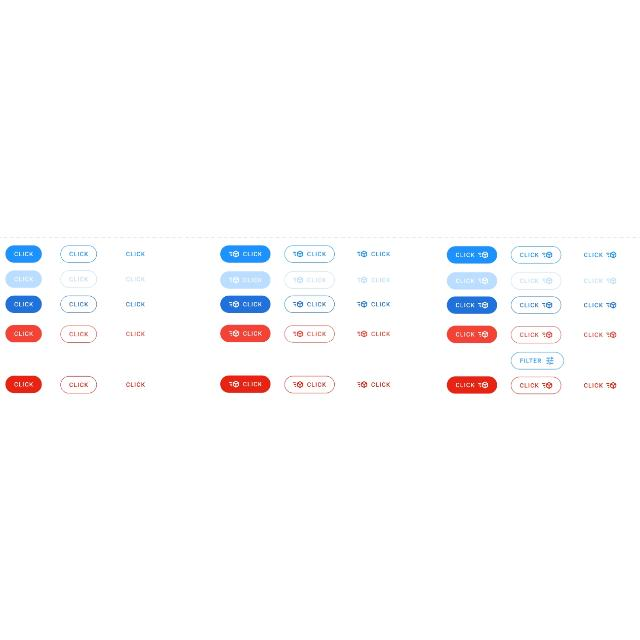QLabel: (12, 248, 36, 258), (304, 328, 328, 338), (68, 298, 90, 308), (68, 328, 90, 338), (126, 248, 148, 258), (125, 272, 147, 282), (369, 380, 393, 388), (519, 356, 543, 364), (242, 379, 262, 388), (12, 328, 34, 336), (67, 249, 89, 257), (124, 379, 146, 387), (306, 249, 328, 257), (305, 274, 327, 282), (454, 300, 476, 308), (454, 380, 476, 388), (518, 276, 540, 284), (13, 274, 34, 282), (371, 328, 392, 336), (126, 299, 146, 307), (242, 249, 262, 257), (242, 328, 262, 336), (306, 299, 326, 307), (370, 275, 390, 283), (455, 250, 475, 258), (455, 276, 475, 284), (520, 250, 540, 258), (519, 300, 539, 308), (583, 330, 603, 338), (583, 300, 603, 308), (584, 276, 604, 284), (583, 250, 603, 258), (124, 329, 146, 336), (69, 379, 89, 386), (68, 275, 90, 281), (241, 276, 263, 282), (454, 330, 476, 336), (518, 331, 540, 337), (13, 300, 34, 306), (14, 380, 34, 386), (242, 300, 262, 306), (307, 380, 327, 386), (370, 250, 390, 256), (518, 382, 538, 388), (583, 382, 603, 388), (372, 300, 391, 306)
VBtn: (511, 350, 564, 368), (220, 244, 272, 262), (220, 323, 272, 341), (284, 375, 336, 393), (447, 245, 498, 263), (511, 325, 562, 343), (220, 294, 270, 312), (221, 270, 271, 288), (511, 245, 561, 263), (284, 294, 334, 312), (512, 295, 562, 313), (512, 271, 562, 289), (447, 324, 497, 342), (221, 374, 271, 392), (285, 324, 335, 342), (447, 375, 497, 393), (511, 375, 561, 393), (286, 244, 334, 262), (286, 270, 334, 288), (447, 272, 497, 288), (448, 296, 497, 312), (4, 324, 42, 342), (6, 244, 42, 262), (60, 244, 96, 262), (5, 294, 41, 312), (60, 294, 96, 312), (5, 374, 41, 392), (60, 324, 96, 342), (60, 374, 96, 392), (62, 269, 96, 287), (5, 270, 41, 286)
VIcon: (290, 273, 304, 283), (354, 247, 368, 257), (604, 300, 618, 310), (227, 274, 240, 284), (291, 328, 303, 338), (292, 248, 304, 258), (356, 274, 368, 284), (290, 380, 304, 388), (540, 300, 554, 308), (604, 330, 618, 338), (228, 328, 240, 337), (476, 276, 489, 284), (544, 355, 554, 365), (354, 379, 368, 386), (228, 249, 240, 257), (228, 300, 240, 308), (292, 300, 304, 308), (477, 250, 489, 258), (477, 300, 489, 308), (478, 330, 490, 338), (542, 276, 554, 284), (542, 330, 554, 338), (605, 250, 617, 258), (606, 276, 618, 284), (606, 381, 618, 389), (228, 379, 240, 386), (542, 250, 552, 258), (356, 300, 368, 306), (356, 330, 368, 336), (478, 382, 488, 388), (542, 382, 552, 388)
